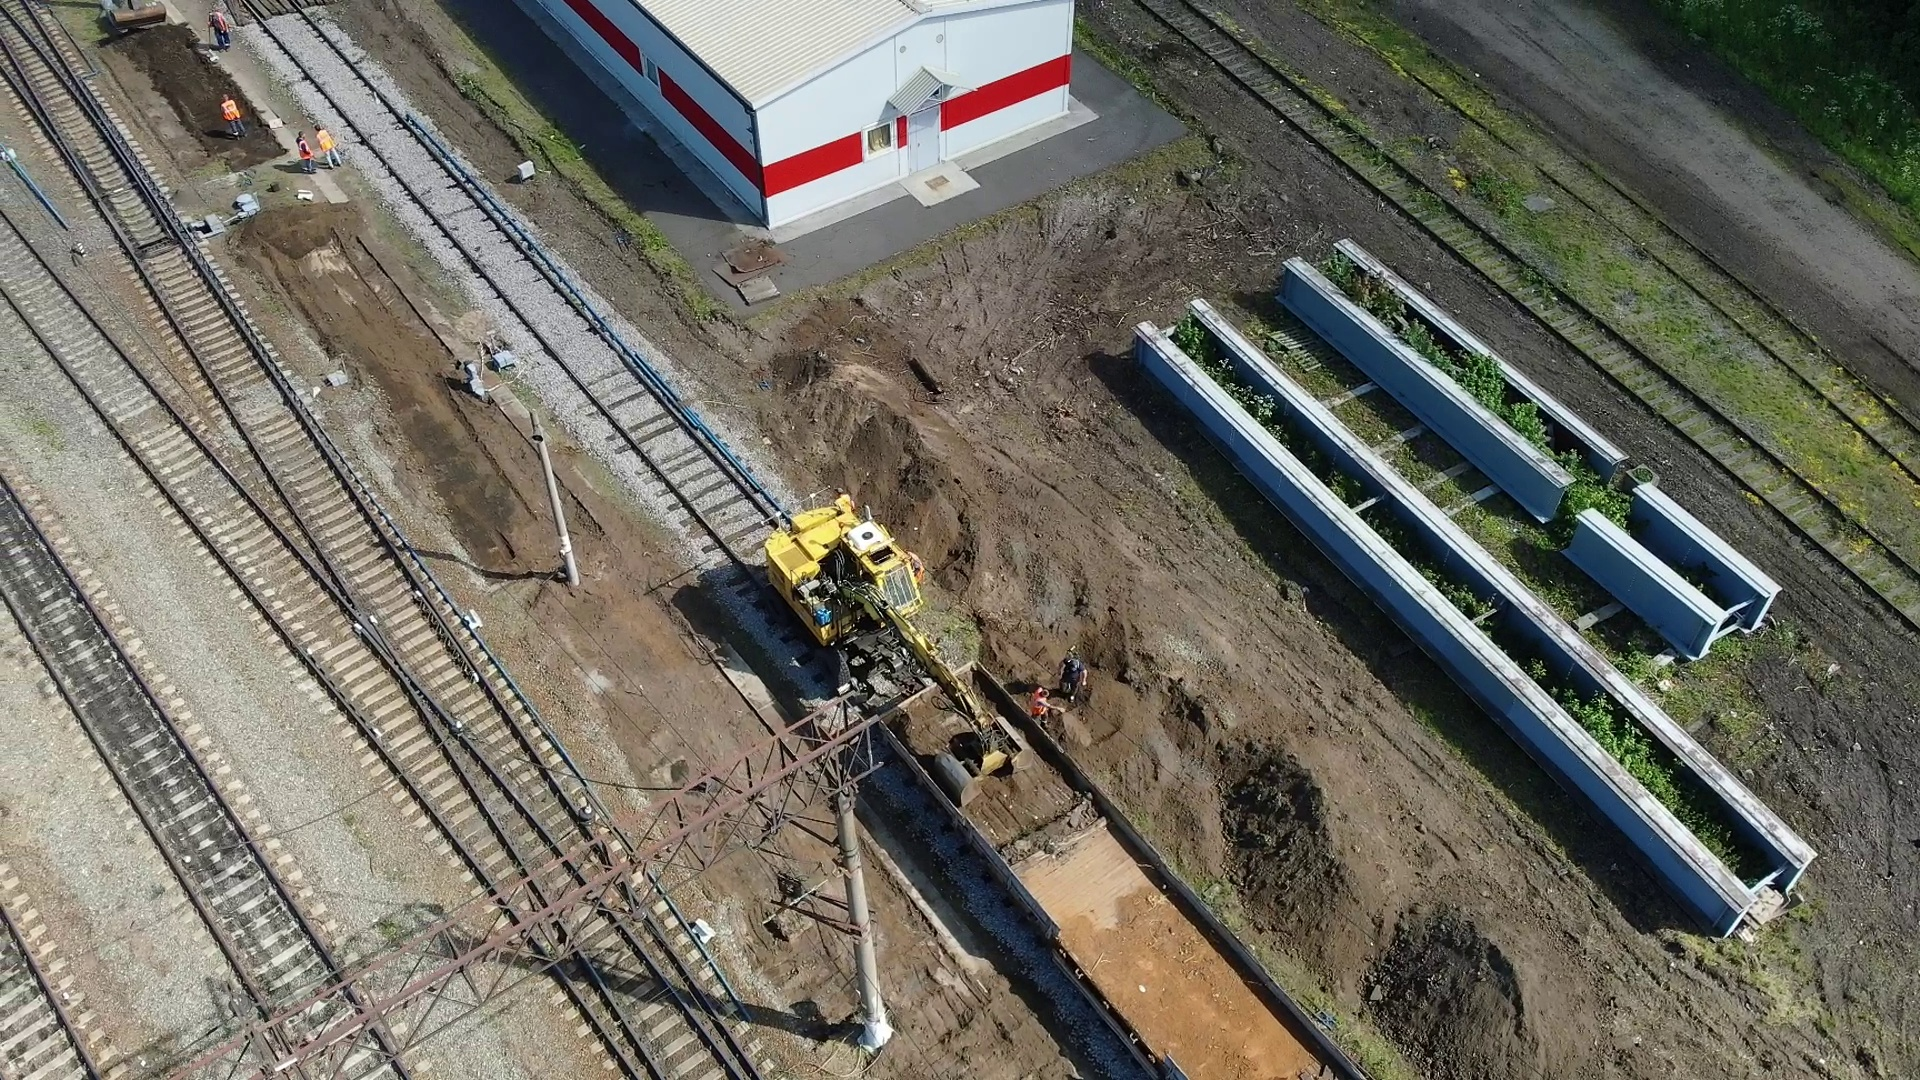kjtv: (765, 508, 919, 684)
